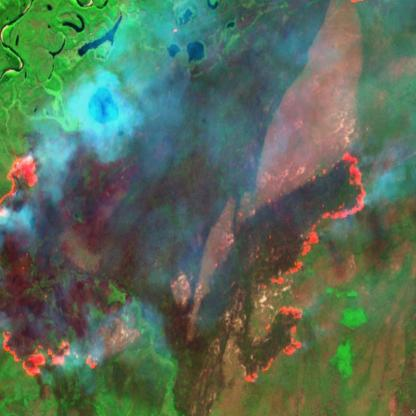fire: (237, 143, 368, 392), (0, 142, 100, 392)
